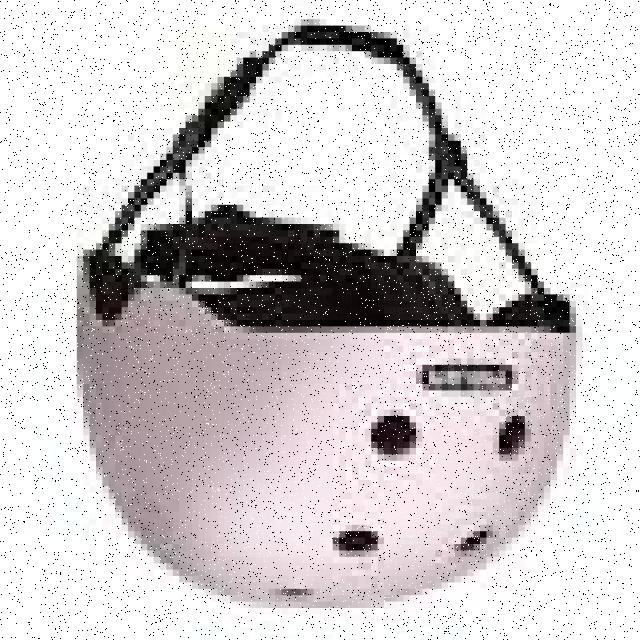Helmet: (17, 224, 619, 625)
